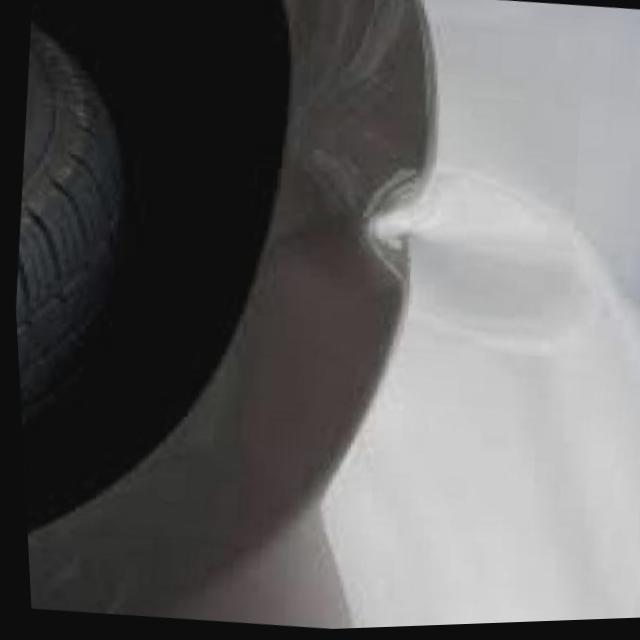Dent: (353, 147, 610, 360)
